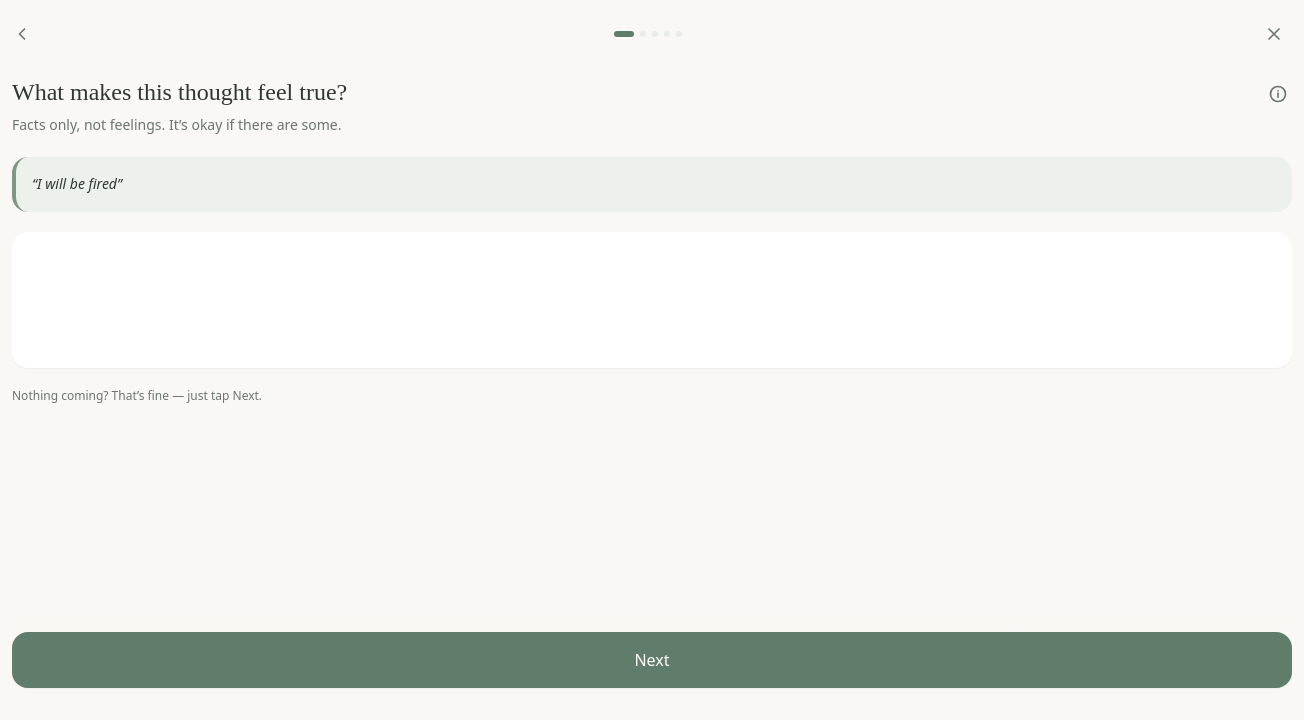
Scenario: with the pattern setting on, the distortions step appears after evidence
expect the heading "What makes this thought feel true?" is shown: met, box [12,76,347,108]
What coordinates should you click on to do the following:
click the button "Next"
I would click on:
 (652, 660)
Its box is [12,632,1292,688].
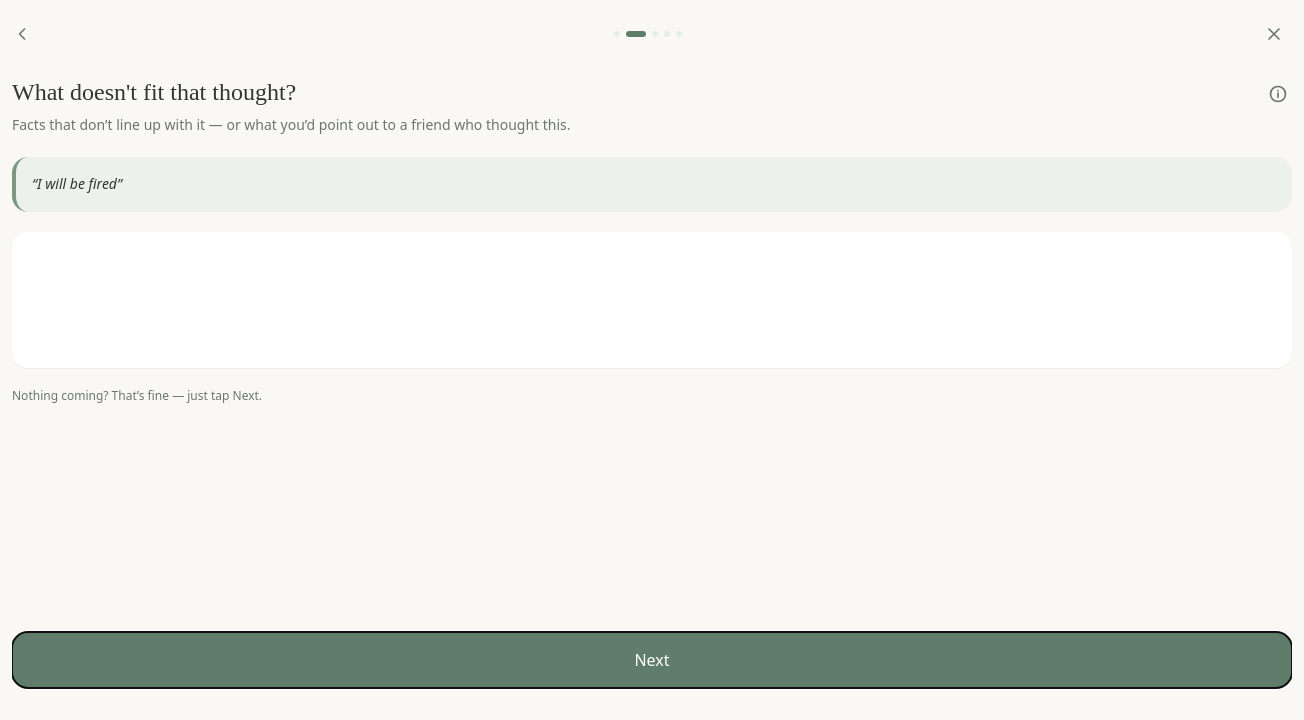
expect the heading "What doesn't fit that thought?" is shown: met, box [12,76,296,108]
What coordinates should you click on to do the following:
click the button "Next"
I would click on:
 (652, 660)
Its box is [12,632,1292,688].
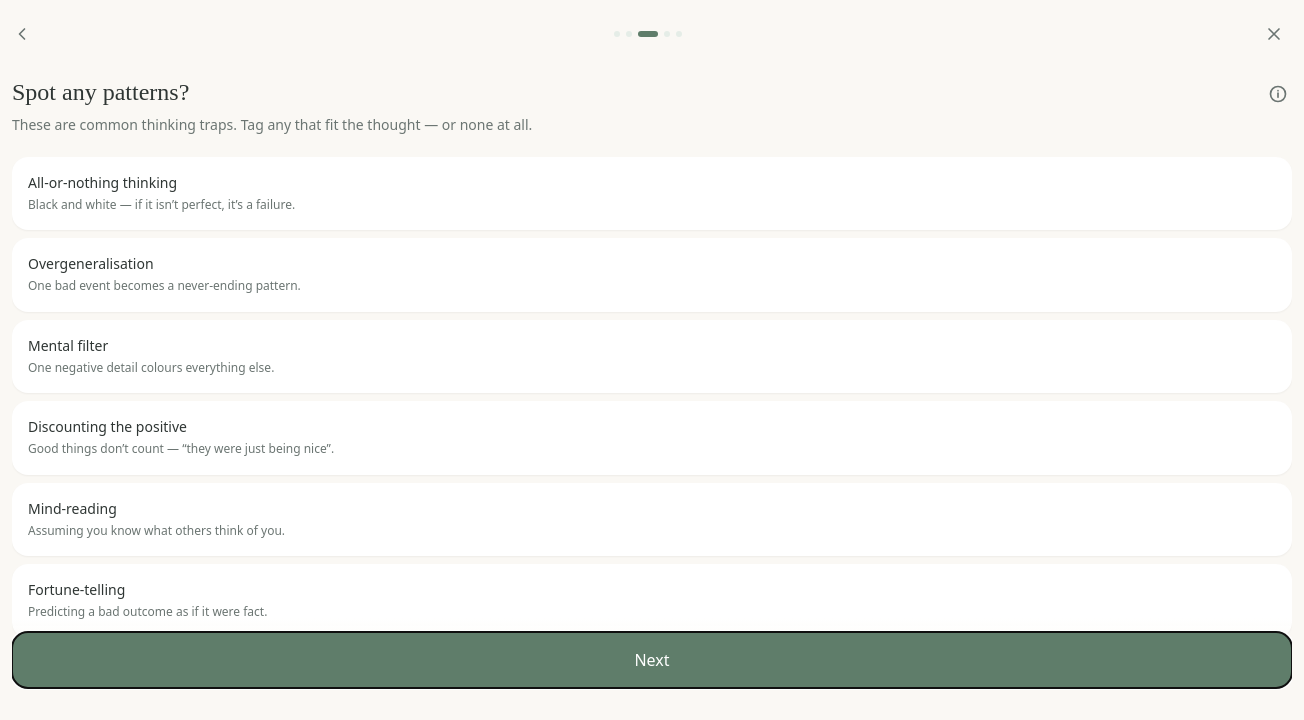
expect the heading "Spot any patterns?" is shown: met, box [12,76,189,108]
